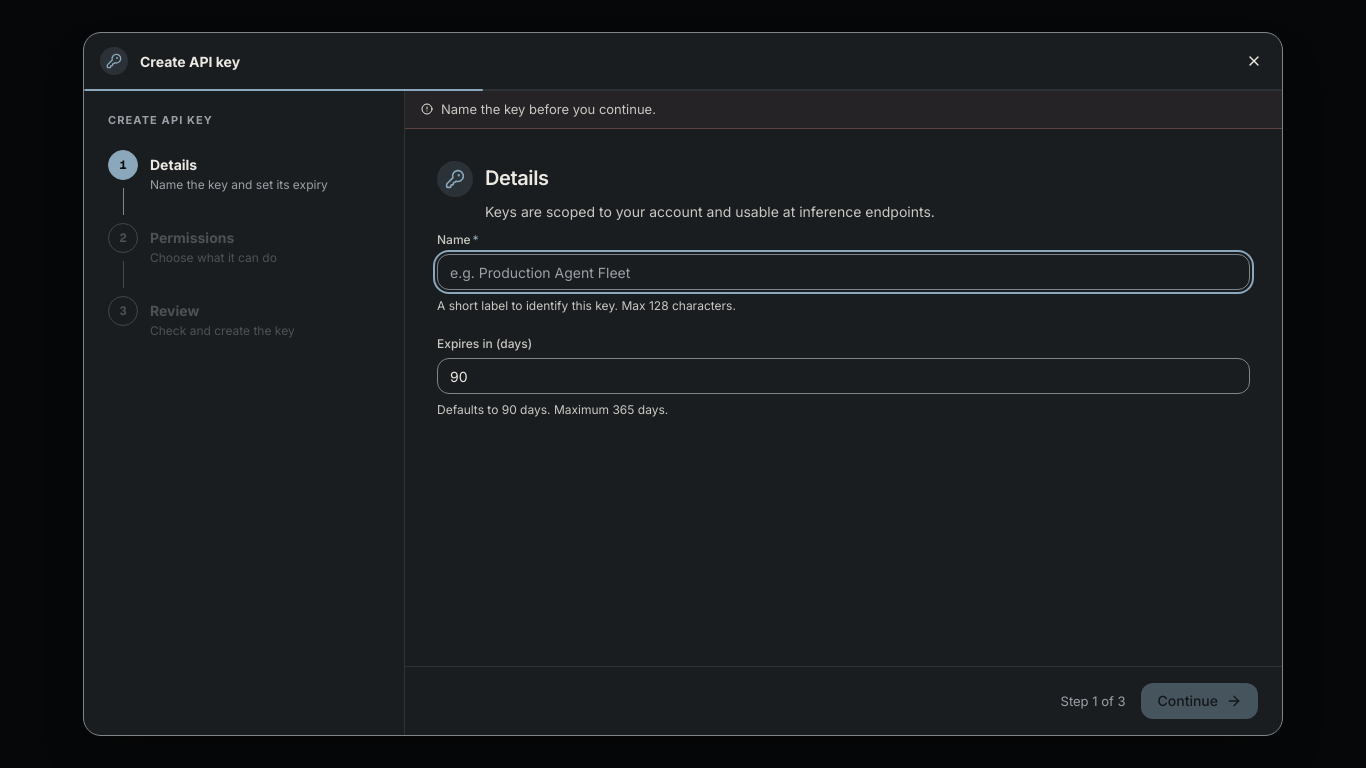
Test: CreateApiKeyWizard › requires a permission, then creates the key and shows it once
Type "CI key" into the field labelled "Name*" at (844, 272), box [437, 254, 1250, 290]
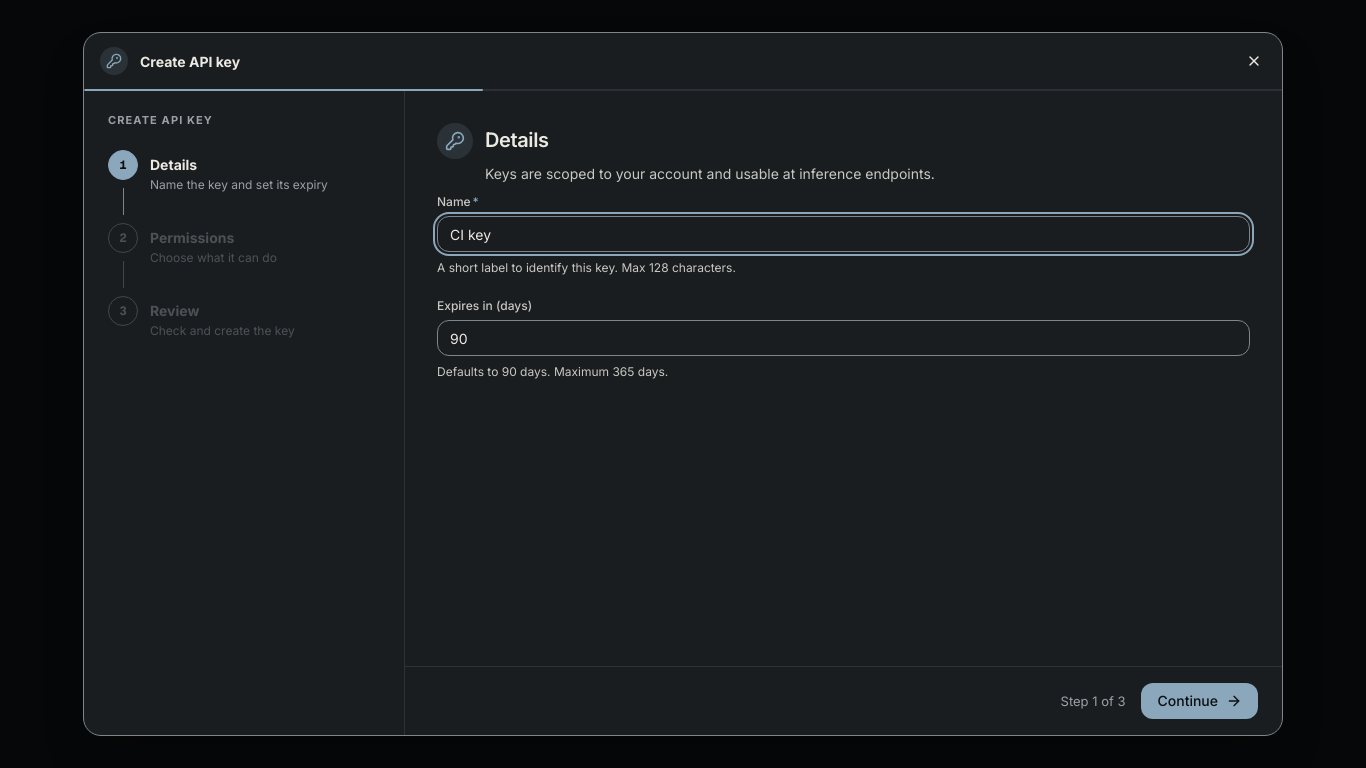
Click the button "Continue" at (1200, 701), box [1142, 683, 1258, 719]
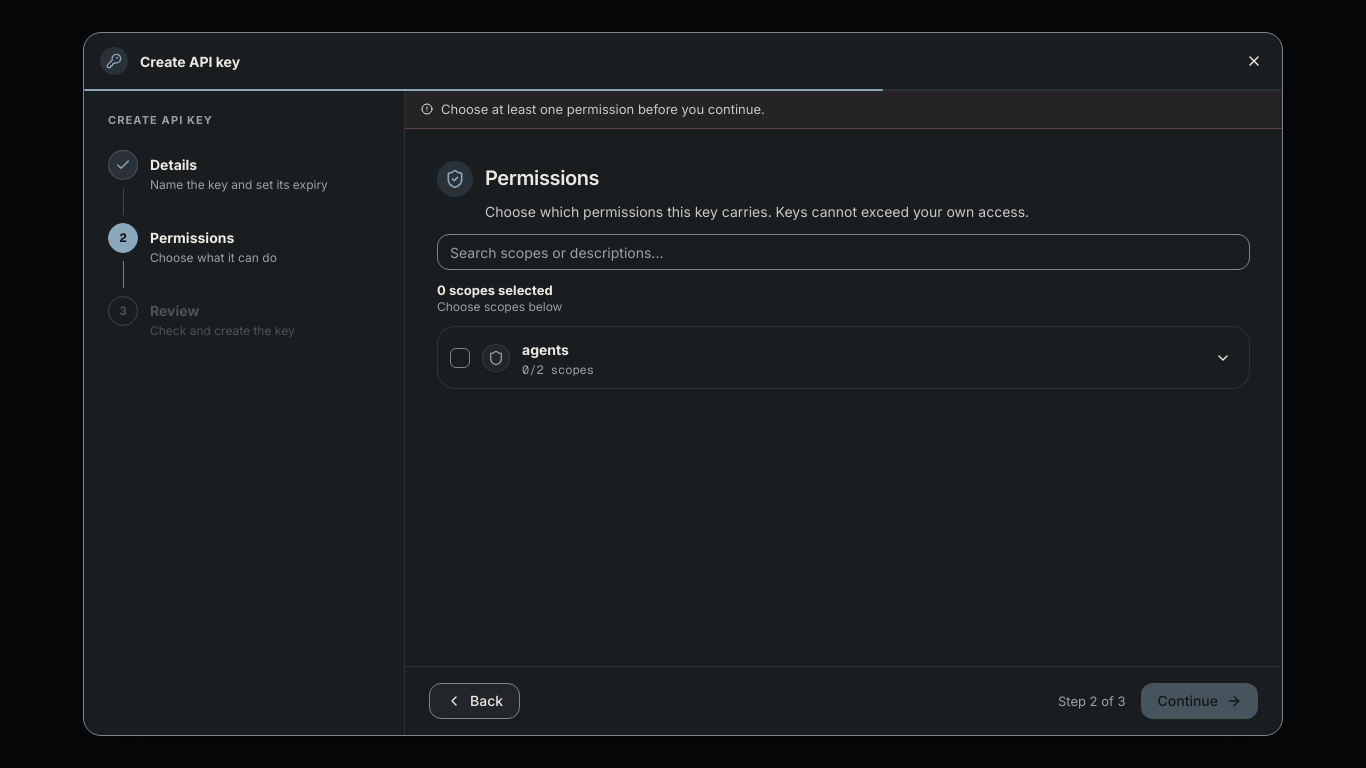
Now the text "Choose at least one permission before you continue." is shown, box [441, 103, 765, 116]
Click the checkbox at (460, 358), box [450, 348, 470, 368]
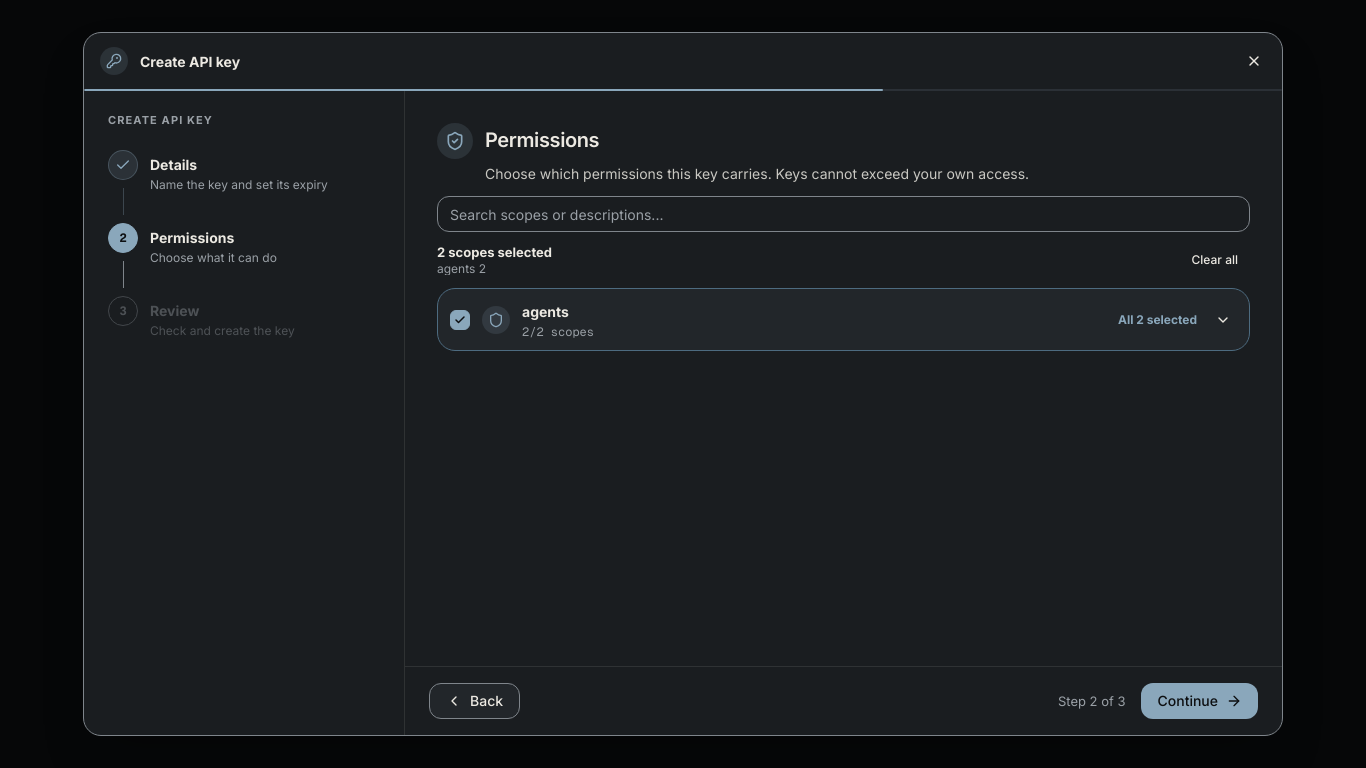
Click the button "Continue" at (1200, 701), box [1142, 683, 1258, 719]
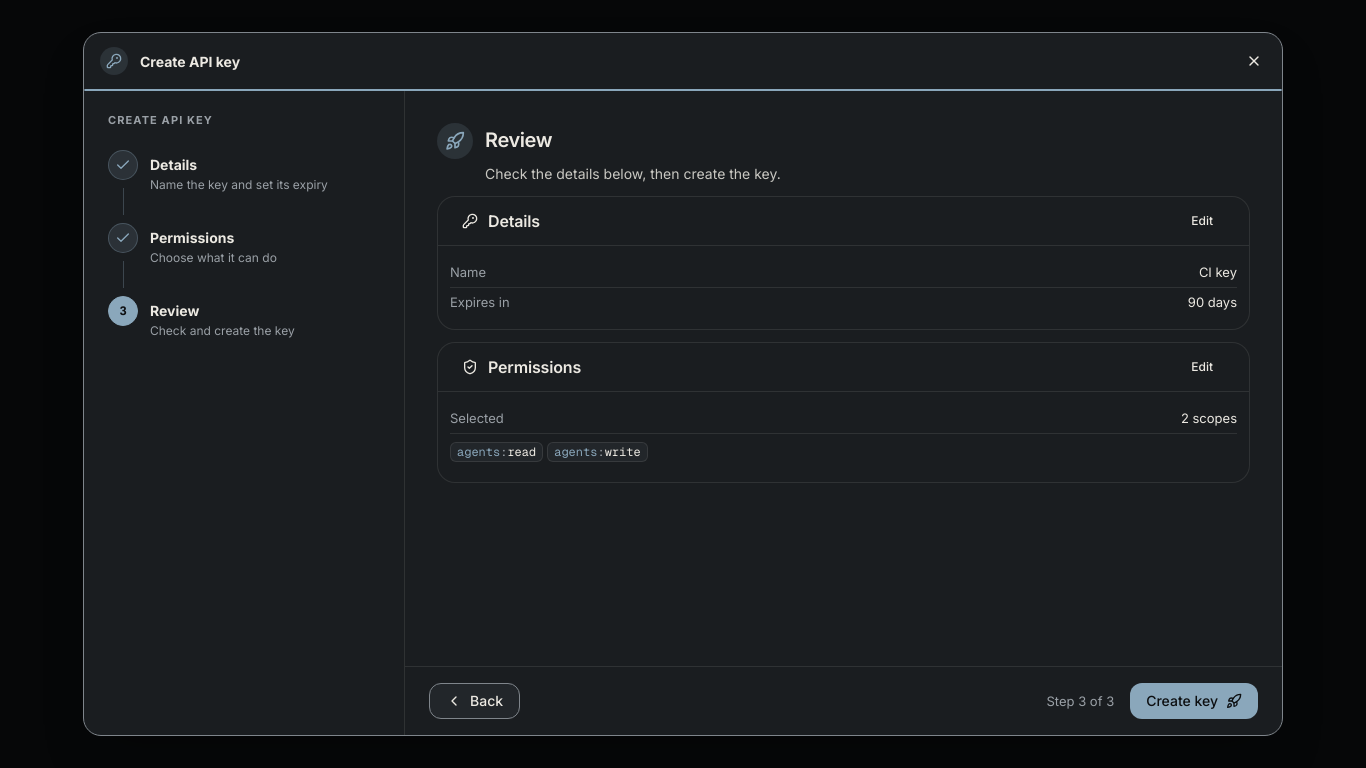
Click the button "Create key" at (1194, 701), box [1130, 683, 1258, 719]
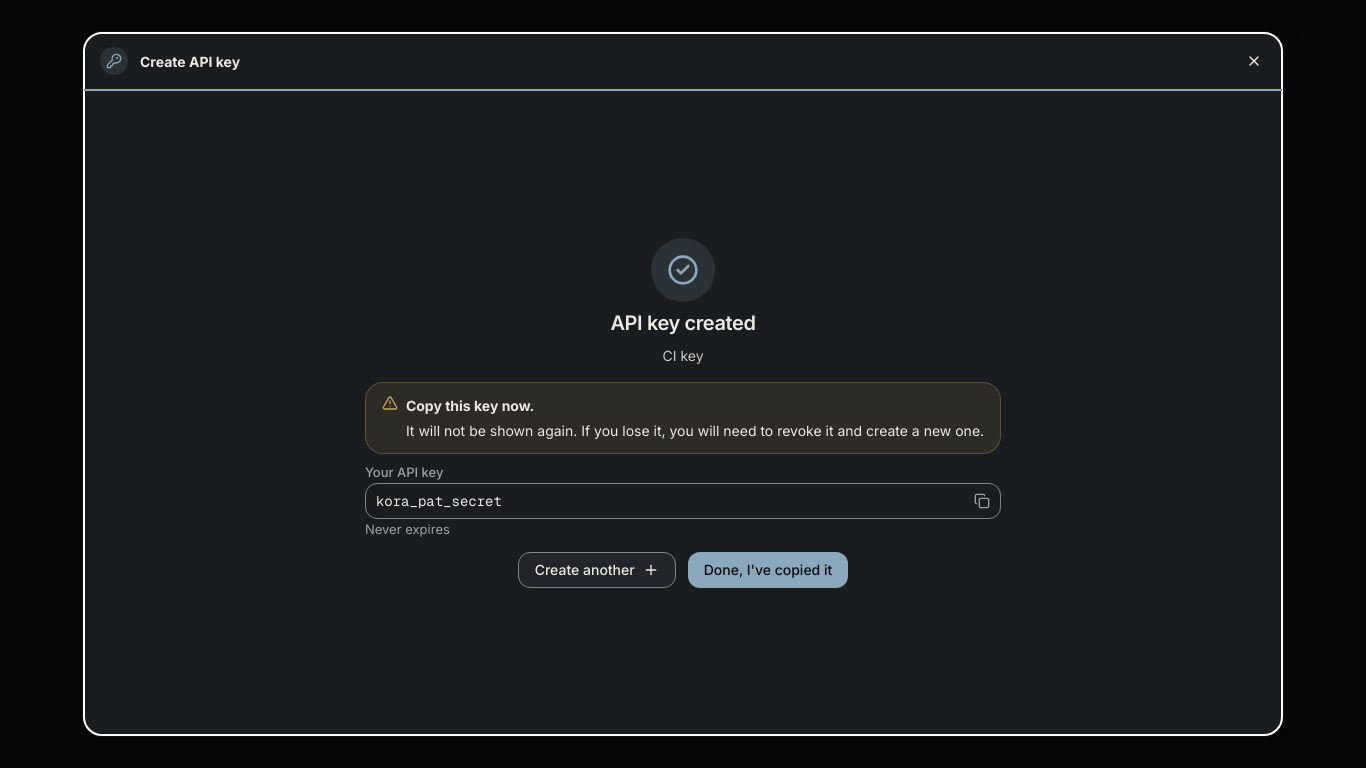
Now the heading "API key created" is shown, box [610, 310, 756, 337]
Now the text "Copy this key now." is shown, box [406, 397, 534, 414]
Now the text "Never expires" is shown, box [365, 521, 450, 537]
